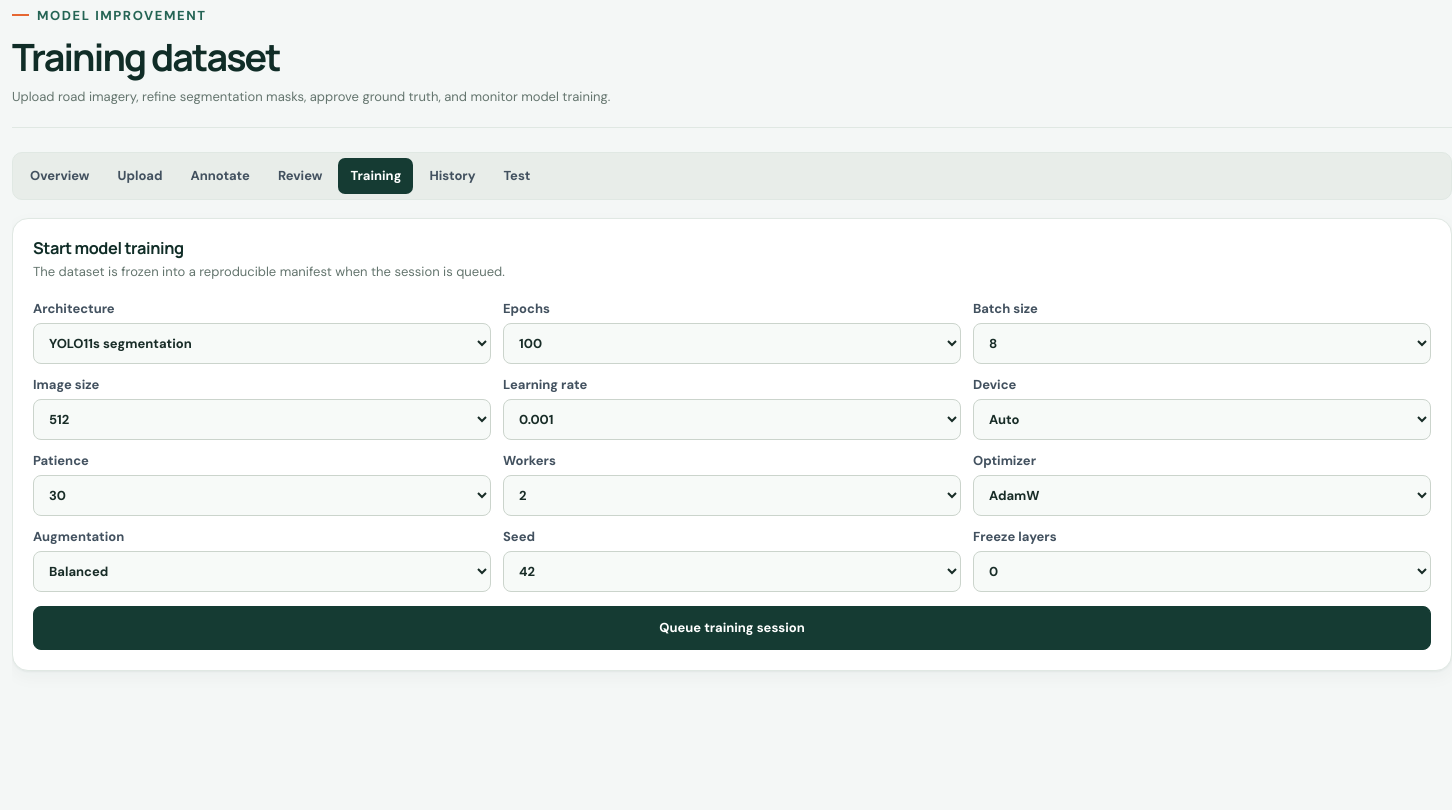
Scenario: training workflow › takes a successfully queued session to history
Click the button "Queue training session" at (732, 628), box x1=33 y1=606 x2=1431 y2=650
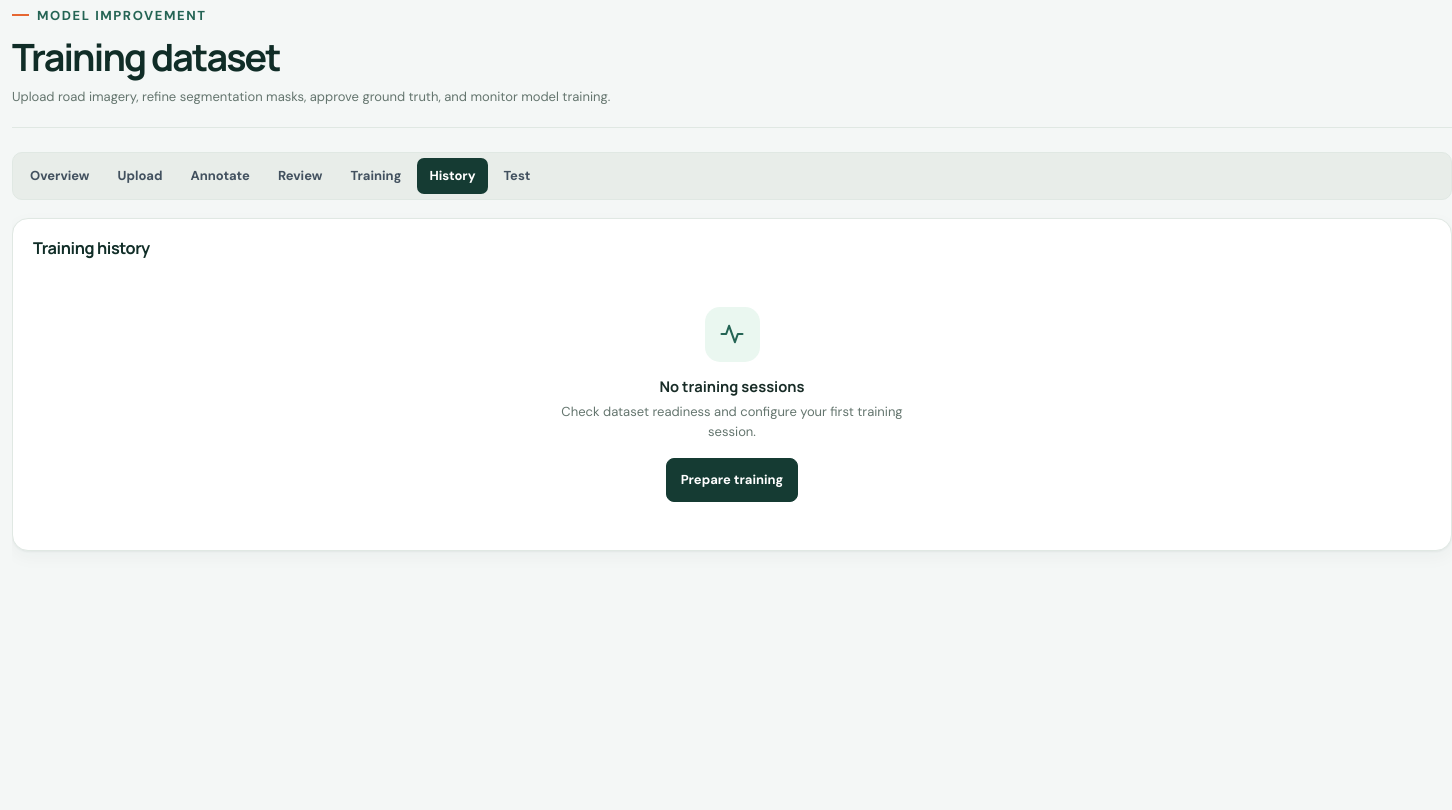
Expected: the heading "Training history" is shown, x1=33 y1=237 x2=150 y2=259
